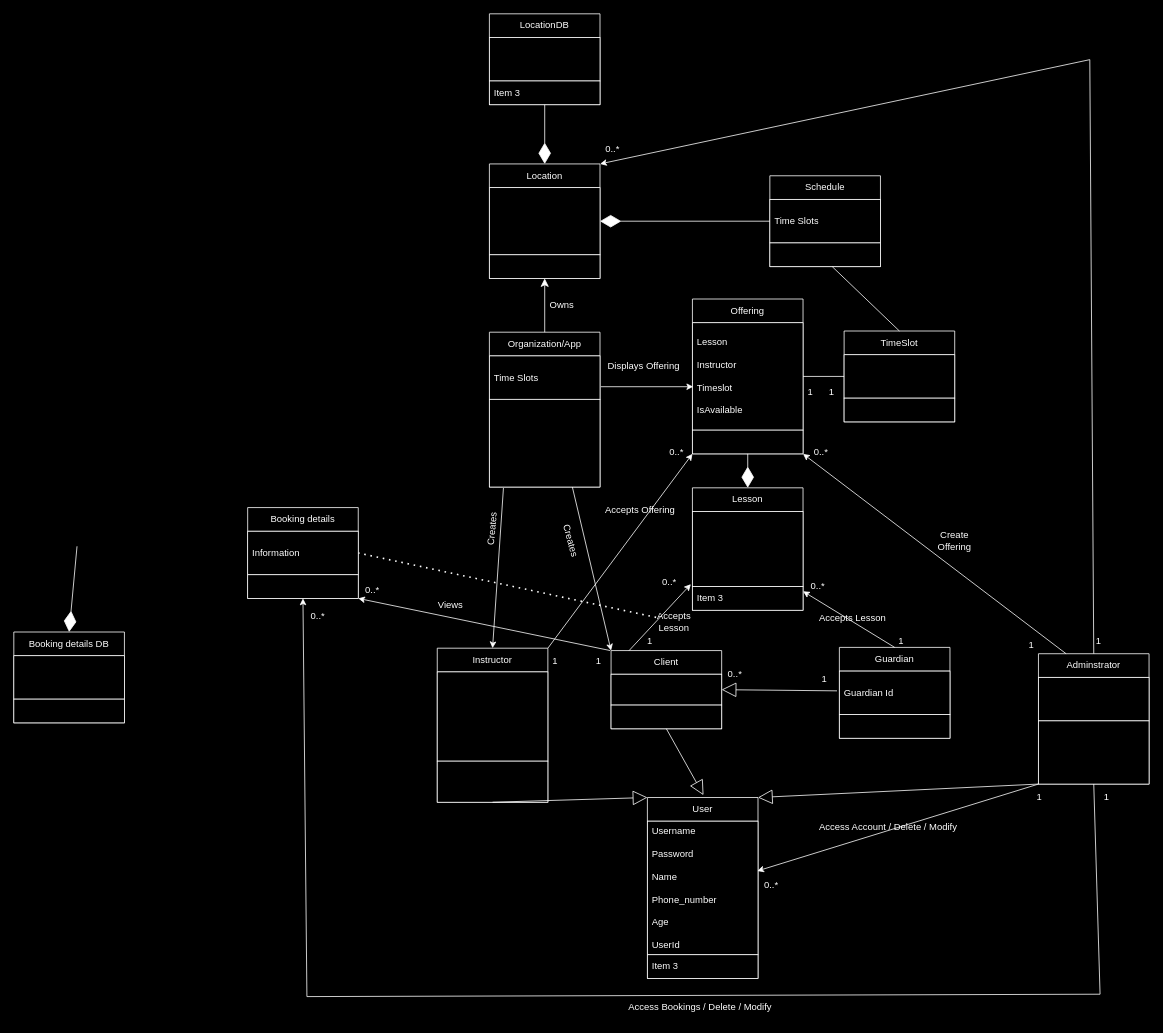
This 1163x1033 diagram has some shape labels left out. The shapes that lost their labels are listed below. From the top down, each one's centre as x and y in pixels, then its label:
At [544,59]: "Location Locations".
At [544,221]: "Address Location Type Scheduale".
At [899,376]: "Start Time EndTime".
At [544,443]: "MakeAvailable() RegisterUser() RegisterInstructor() DisplayOffering".
At [747,549]: "Lesson Name Duration GroupLesson".
At [68,677]: "Bookings".
At [666,689]: "Client ID".
At [492,716]: "Specialization Instructor ID Availability OfferingAccepted".
At [666,716]: "BookLesson()".
At [1093,699]: "Administrator ID".
At [1093,752]: "DeleteAccount() EditOffering() CreateOffering()".
At [492,781]: "AcceptOffering() MakeAvailible()".
